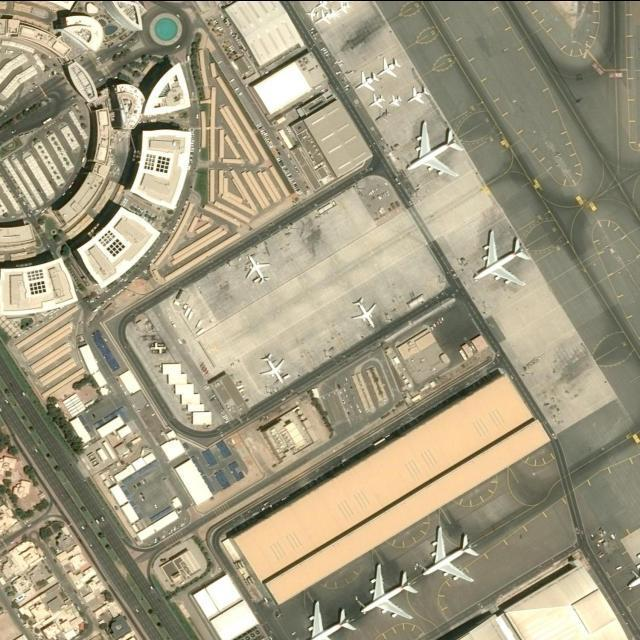Aircraft: (422, 523, 479, 583), (472, 228, 530, 286), (405, 119, 463, 175), (360, 564, 416, 620), (305, 598, 356, 640), (260, 352, 286, 384), (243, 253, 270, 283), (351, 296, 377, 327), (355, 70, 379, 90), (377, 56, 401, 76), (407, 85, 431, 103), (315, 9, 333, 25), (374, 108, 390, 122), (369, 92, 385, 106), (337, 1, 351, 14), (388, 93, 402, 105), (305, 7, 319, 19), (316, 0, 332, 8)
